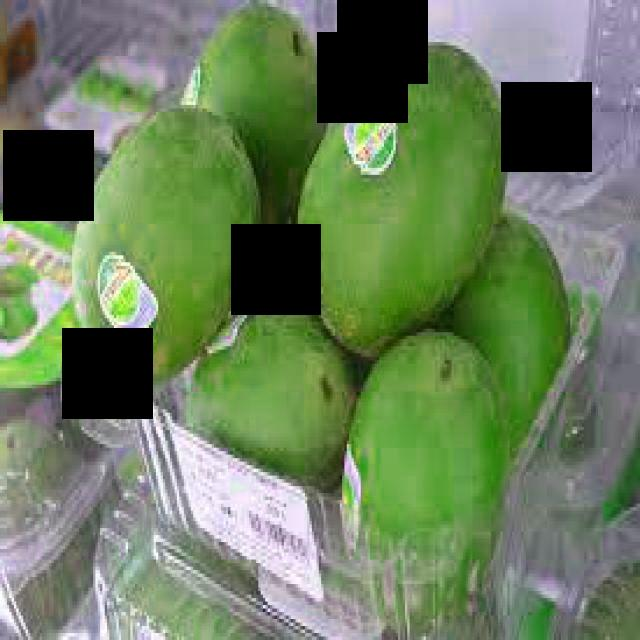kiwi: (295, 40, 516, 355), (69, 102, 267, 393), (339, 330, 516, 624), (169, 5, 334, 250), (190, 291, 358, 515), (431, 204, 569, 459)
